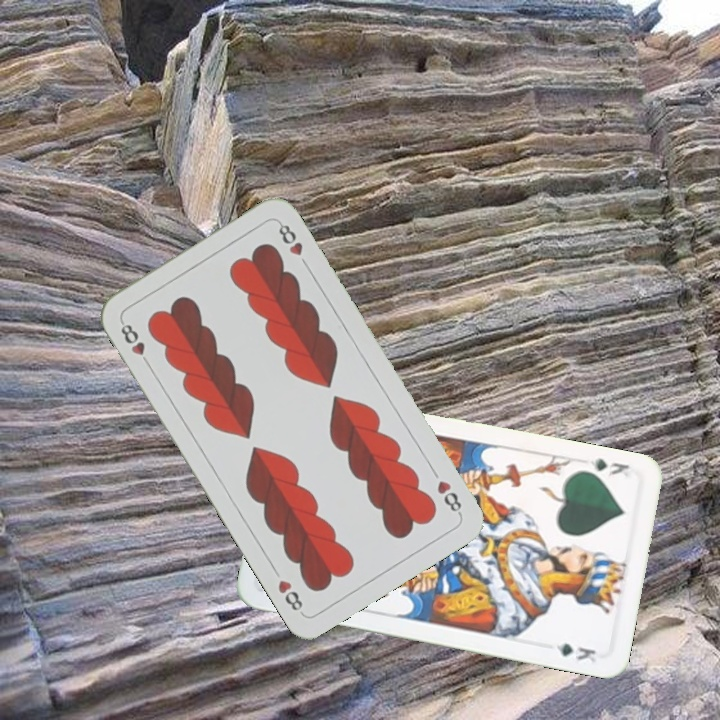GK: (586, 454, 631, 479)
H8: (116, 317, 154, 370), (433, 476, 465, 518)
